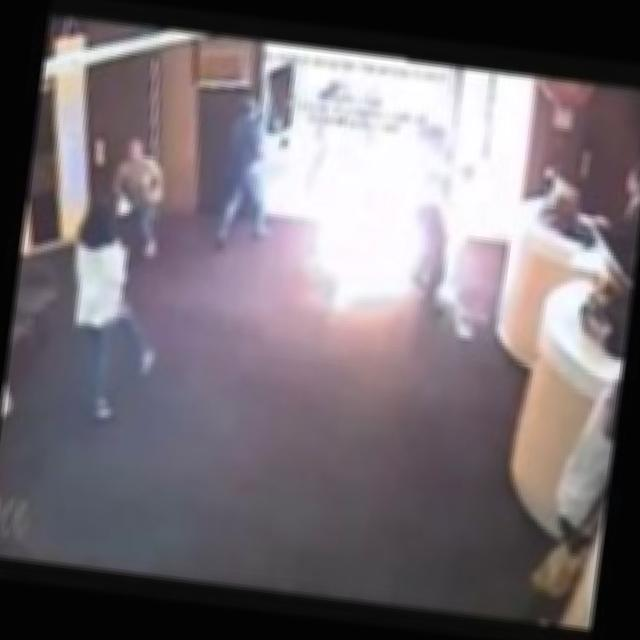fire: (293, 121, 476, 339)
